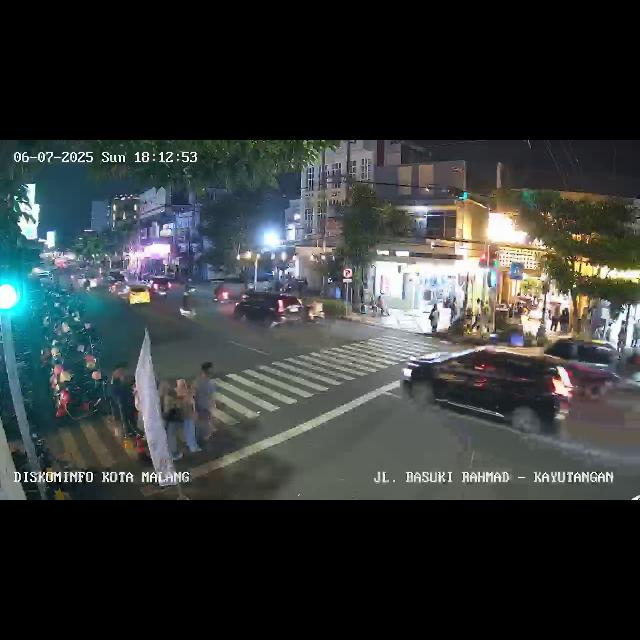car: (402, 343, 574, 432), (233, 290, 285, 330), (108, 280, 152, 306)
motorcycle: (176, 288, 198, 322), (306, 294, 326, 326), (212, 280, 230, 306)
person: (156, 380, 184, 460), (175, 380, 202, 454), (112, 367, 138, 439), (198, 362, 216, 442), (471, 298, 482, 332), (447, 296, 457, 330), (428, 303, 438, 335), (549, 303, 559, 333), (617, 320, 627, 350), (560, 306, 570, 332), (631, 320, 639, 348), (606, 322, 612, 342)
